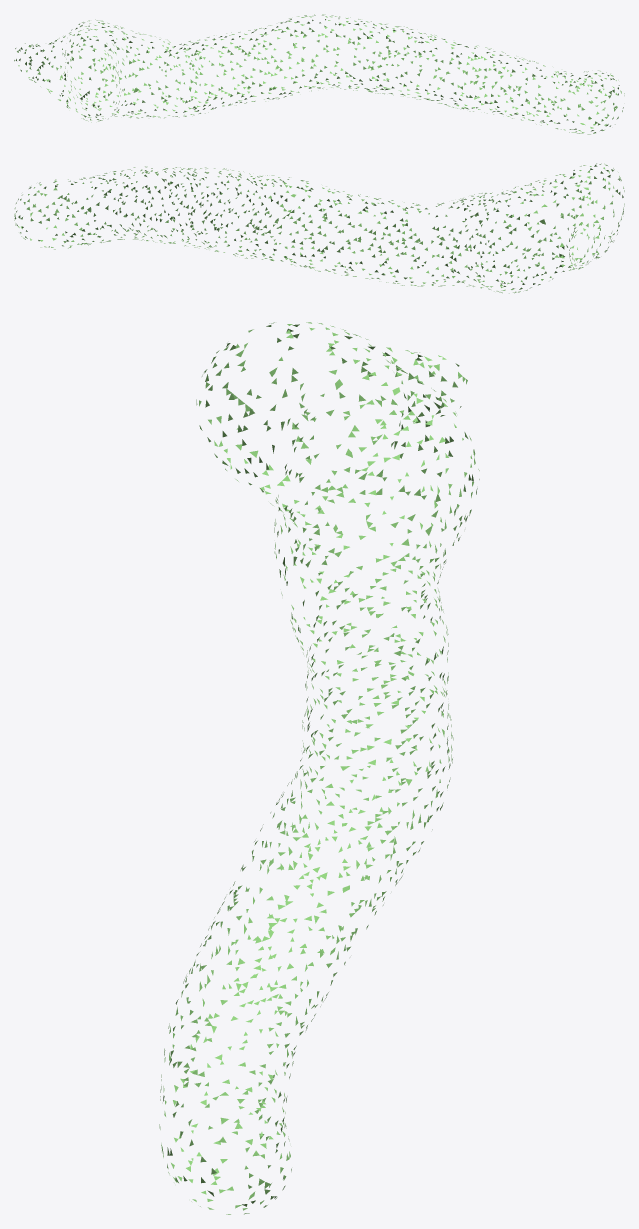
File: morph_015.glb
The picture shows the model from 3 angles, top to bottom: view 1: azimuth 30°, elevation 25°; view 2: azimuth 150°, elevation 25°; view 3: azimuth 270°, elevation 25°; orthographic projection. The views are drawn at different scales.
Bounding box in the file's own units: 118 × 40.95 × 29.46.
